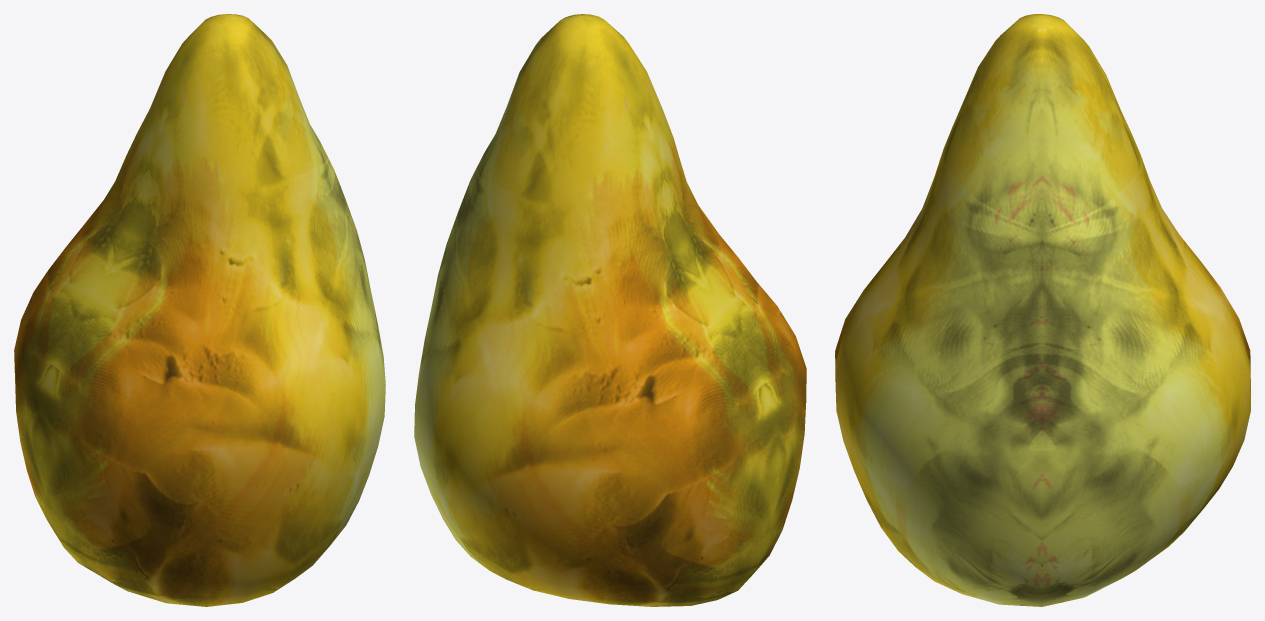
The model's file is mPoire1Outline.FBX.
3 renders of one model, left to right at view 1: azimuth 30°, elevation 25°; view 2: azimuth 150°, elevation 25°; view 3: azimuth 270°, elevation 25°, orthographic. The views are drawn at different scales.
Visible parts, largest first — view 1: Poire_Positif_03_OUTLINE; view 2: Poire_Positif_03_OUTLINE; view 3: Poire_Positif_03_OUTLINE.
Boxes of the visible parts, x1,y1,x2,y2 form: Poire_Positif_03_OUTLINE: (14, 14, 385, 606); Poire_Positif_03_OUTLINE: (414, 14, 806, 606); Poire_Positif_03_OUTLINE: (835, 14, 1250, 606).
Size of the model in its own units: 1.48 by 2.41 by 1.57.
